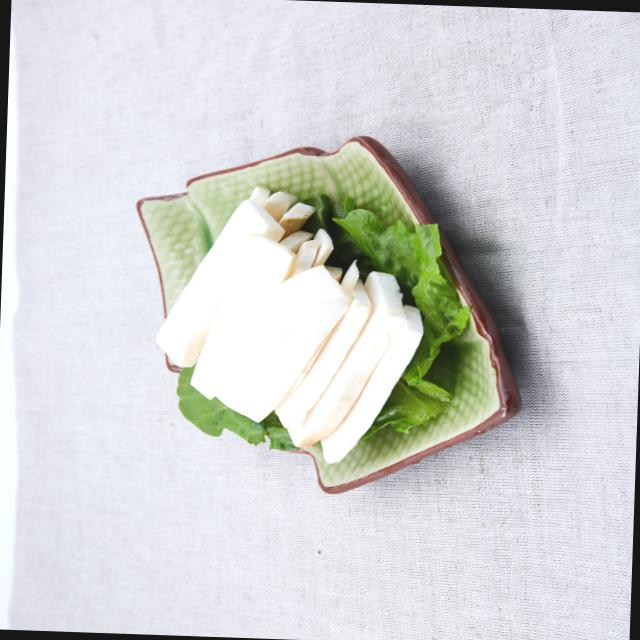Pleurotus eryngii: (154, 181, 426, 463)
